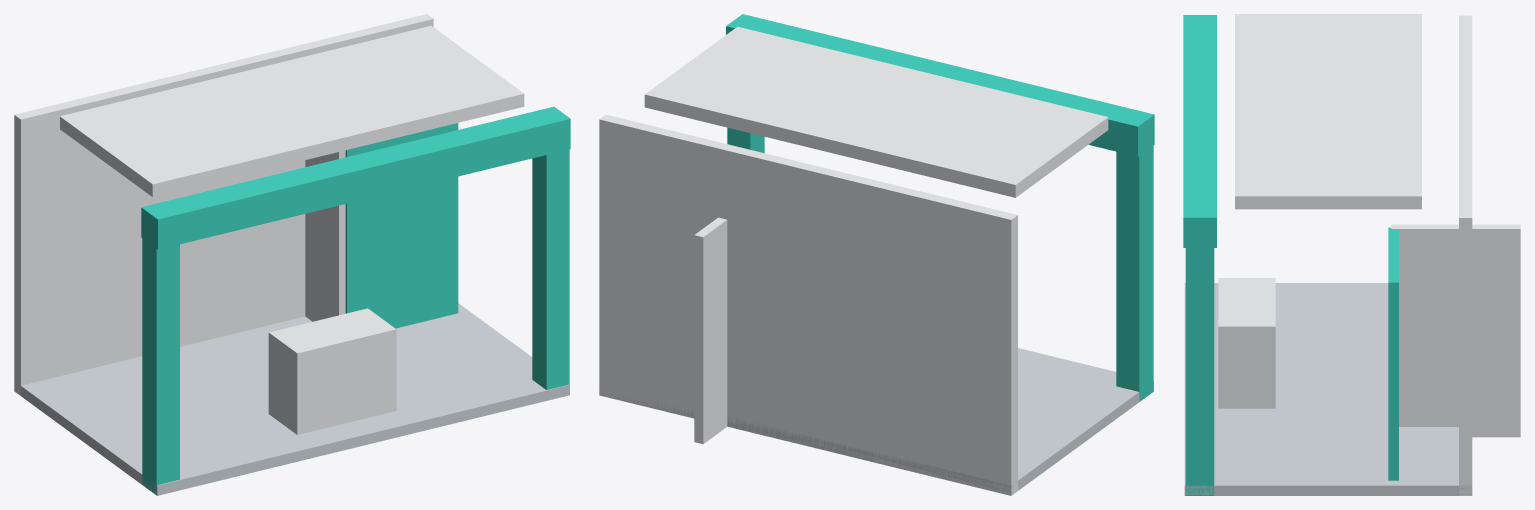
3 views of the same model, side by side, from view 1: azimuth 30°, elevation 25°; view 2: azimuth 150°, elevation 25°; view 3: azimuth 270°, elevation 25° (orthographic).
Visible parts, largest first — view 1: Exhibition Booth Concept; view 2: Exhibition Booth Concept; view 3: Exhibition Booth Concept.
Part boxes in pixels (x1,y1,x2,y2): Exhibition Booth Concept: (14,14,570,495); Exhibition Booth Concept: (599,14,1154,495); Exhibition Booth Concept: (1183,14,1520,495).
Size of the model in its own units: 5 by 3.34 by 3.52.
